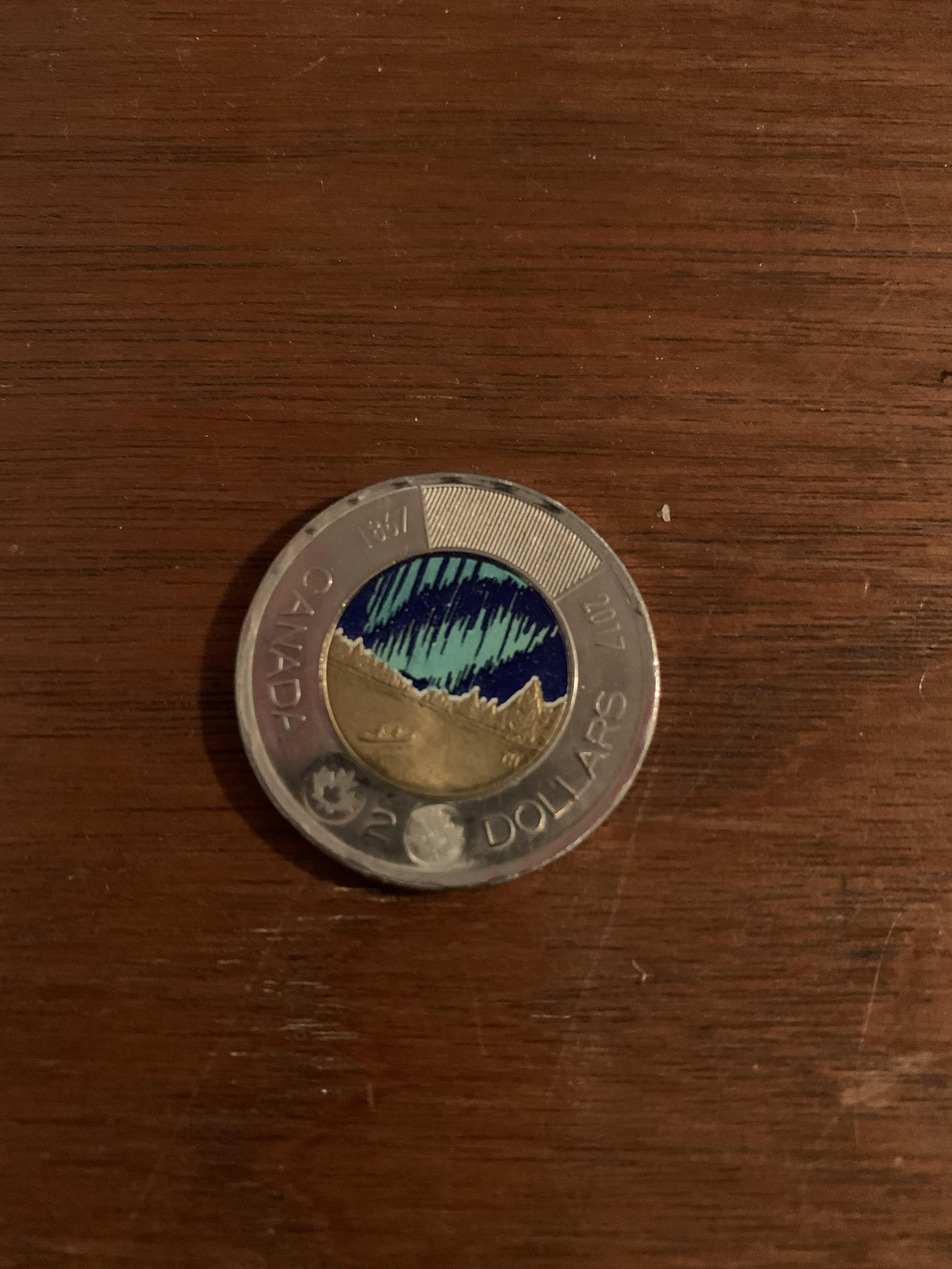coin: (236, 475, 659, 888)
